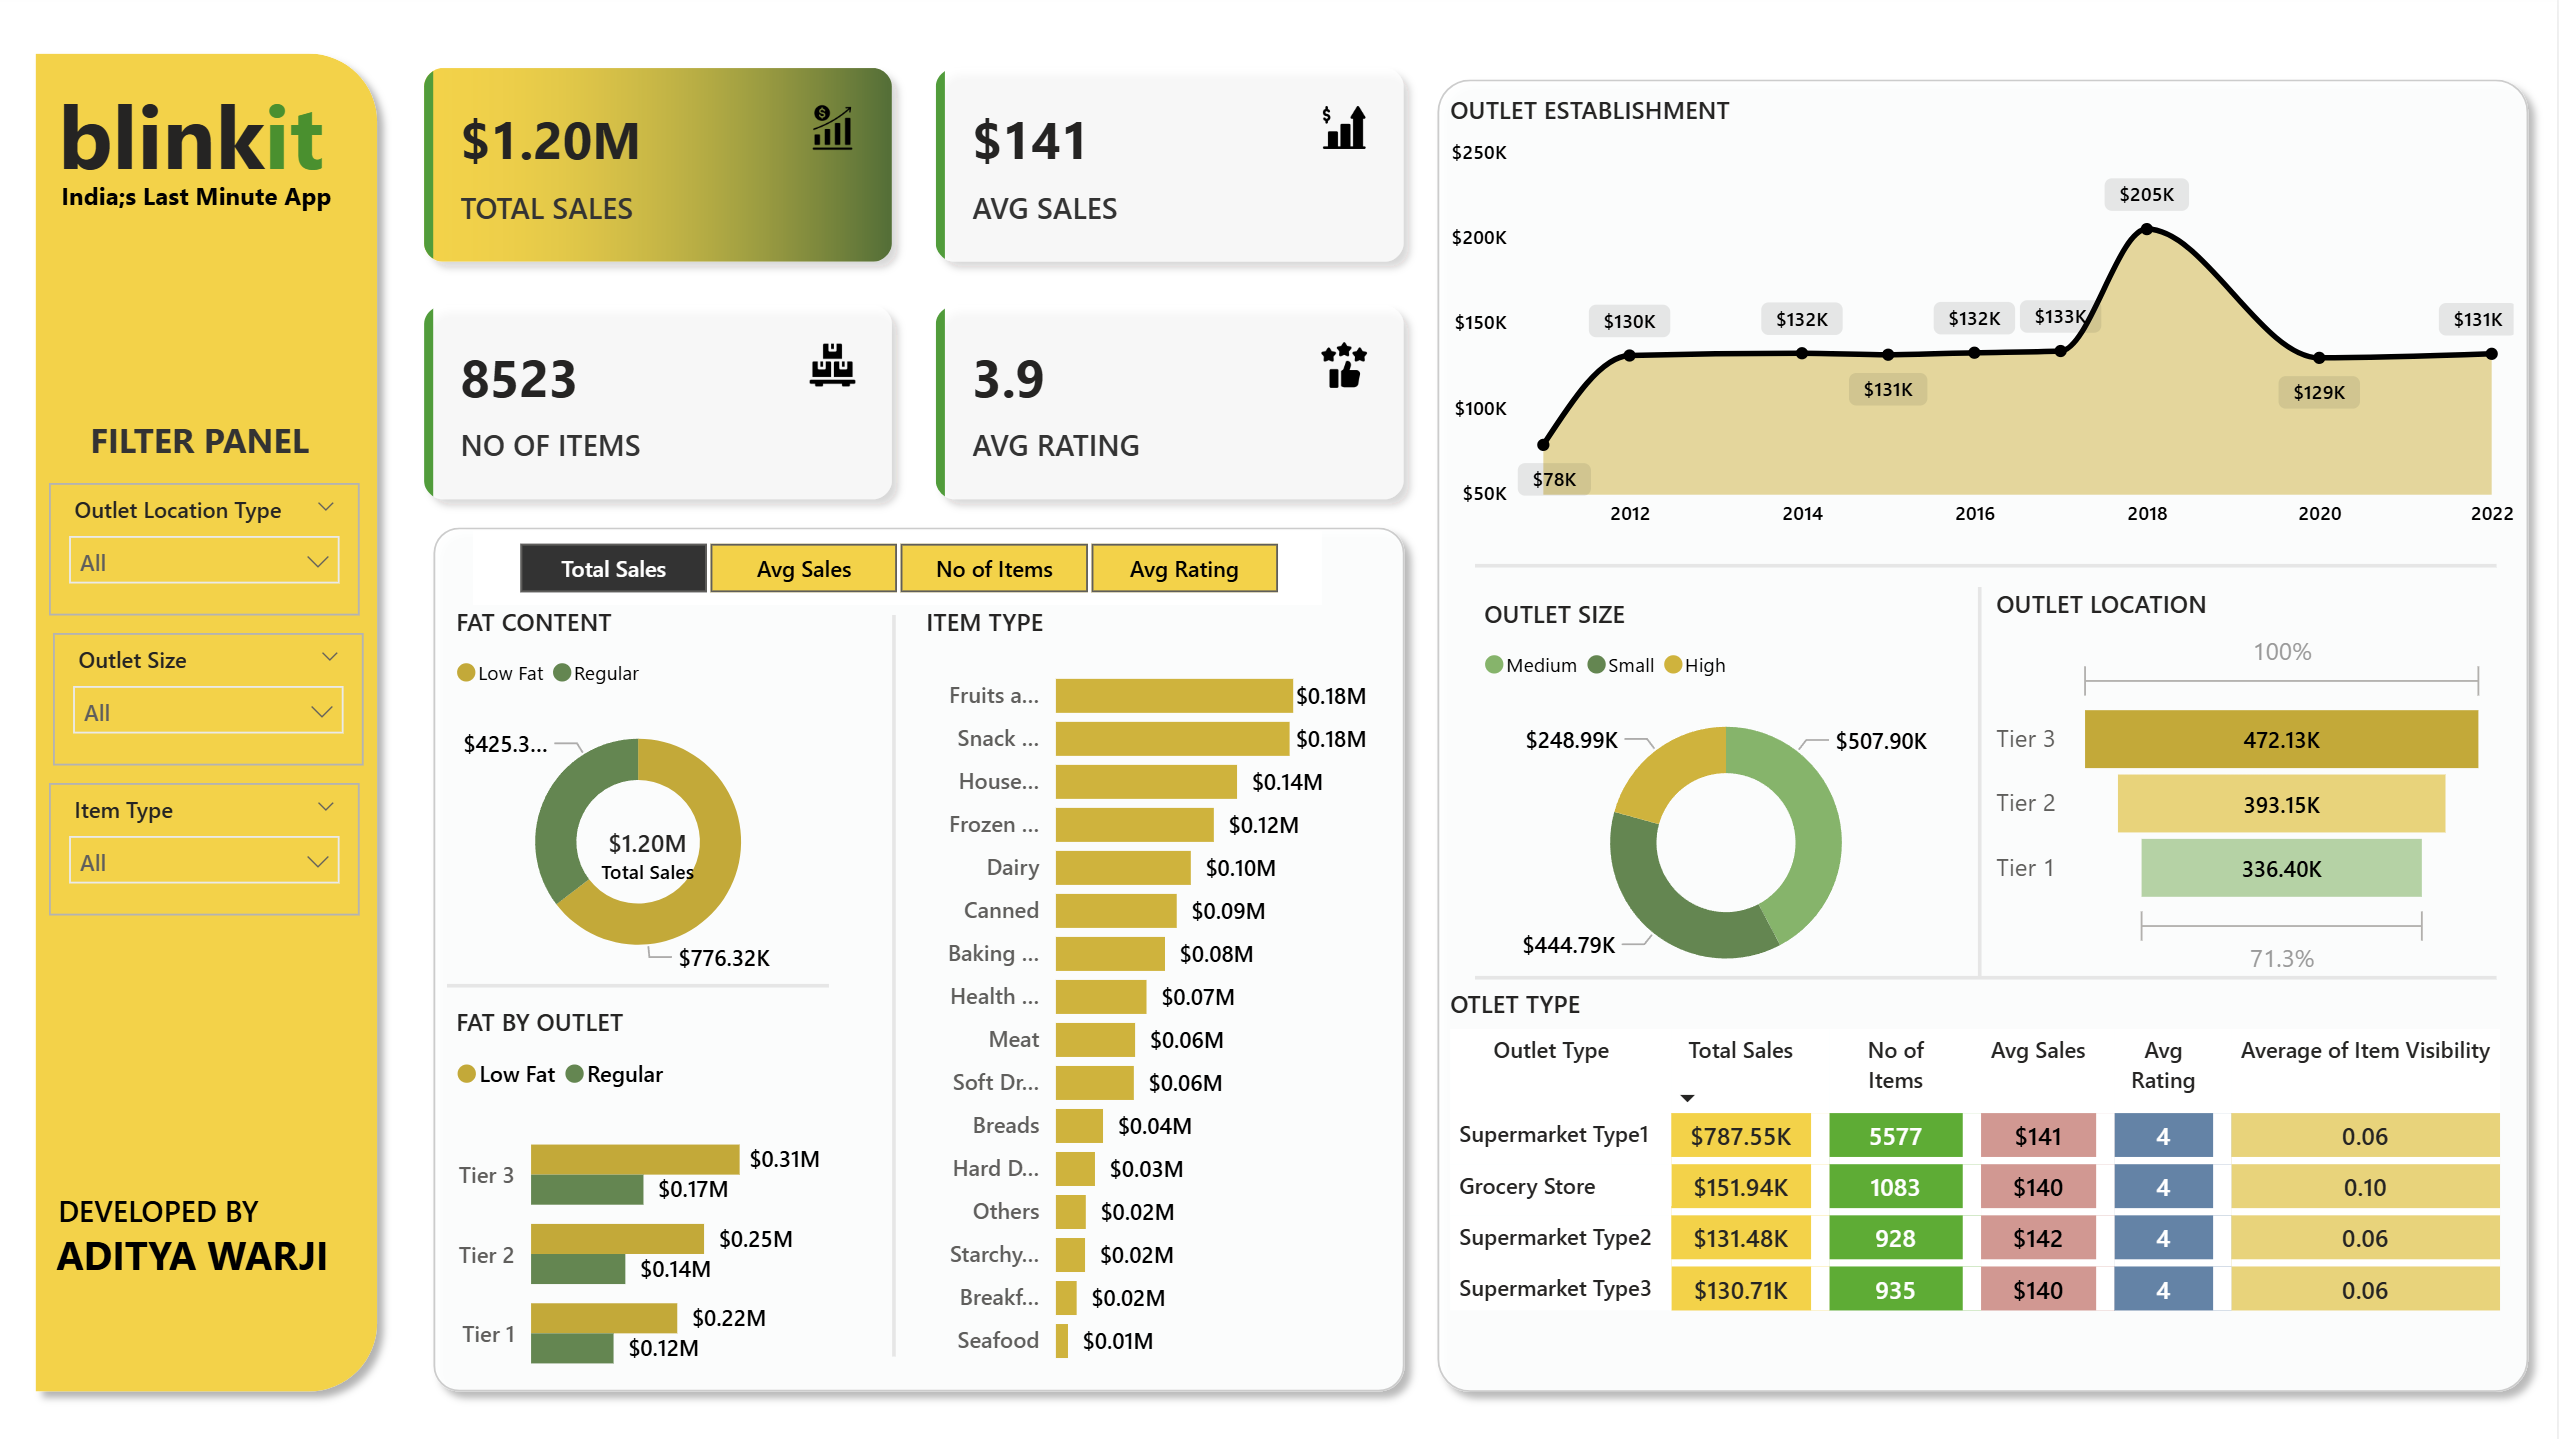

The page's visual inventory and layout, read from the dashboard file:
{"tool":"powerbi","page":{"name":"Page 1","canvas":[1400,800],"ordinal":0},"visuals":[{"type":"shape","box":[11.2,25.1,205,750.2],"z":0},{"type":"textbox","box":[27.9,40.4,172.9,87.8],"z":1000},{"type":"textbox","box":[0,97.6,216.1,87.8],"z":2000},{"type":"cardVisual","fields":{"Data":["BlinkIT Grocery Data - BlinkIT Grocery Data.Total Sales","BlinkIT Grocery Data - BlinkIT Grocery Data.Avg Sales","BlinkIT Grocery Data - BlinkIT Grocery Data.No of Items","BlinkIT Grocery Data - BlinkIT Grocery Data.Avg Rating"]},"box":[216.1,25.1,570.3,270.5],"z":3000},{"type":"shape","box":[228.7,284.5,549.4,490.8],"z":4000},{"type":"donutChart","title":"FAT CONTENT","fields":{"Y":["BlinkIT Grocery Data - BlinkIT Grocery Data.Avg Rating"],"Category":["BlinkIT Grocery Data - BlinkIT Grocery Data.Item Fat Content"]},"box":[245.4,336.1,209.2,214.7],"z":5000},{"type":"slicer","fields":{"Values":["Metrics.Metrics"]},"box":[259.4,295.6,464.3,40.4],"z":6000},{"type":"cardVisual","fields":{"Data":["BlinkIT Grocery Data - BlinkIT Grocery Data.Avg Rating"]},"box":[306.8,436.5,97.6,72.5],"z":7000},{"type":"clusteredBarChart","title":"FAT BY OUTLET","fields":{"Y":["BlinkIT Grocery Data - BlinkIT Grocery Data.Avg Rating"],"Category":["BlinkIT Grocery Data - BlinkIT Grocery Data.Outlet Location Type"],"Series":["BlinkIT Grocery Data - BlinkIT Grocery Data.Item Fat Content"]},"box":[245.4,555,209.2,220.3],"z":8000},{"type":"shape","box":[245.4,529.9,209.2,29.3],"z":9000},{"type":"shape","box":[476.9,341.6,25.1,405.8],"z":10000},{"type":"barChart","title":"ITEM TYPE","fields":{"Y":["BlinkIT Grocery Data - BlinkIT Grocery Data.Avg Rating"],"Category":["BlinkIT Grocery Data - BlinkIT Grocery Data.Item Type"]},"box":[502,336.1,251,426.7],"z":11000},{"type":"shape","box":[778.1,39,614.9,736.3],"z":12000},{"type":"lineChart","title":"OUTLET ESTABLISHMENT","fields":{"Y":["BlinkIT Grocery Data - BlinkIT Grocery Data.Total Sales"],"Category":["BlinkIT Grocery Data - BlinkIT Grocery Data.Outlet Establishment Year"]},"box":[789.2,55.8,591.9,246.8],"z":13000},{"type":"donutChart","title":"OUTLET SIZE","fields":{"Y":["BlinkIT Grocery Data - BlinkIT Grocery Data.Total Sales"],"Category":["BlinkIT Grocery Data - BlinkIT Grocery Data.Outlet Size"]},"box":[807.4,331.9,274.7,224.5],"z":14000},{"type":"shape","box":[807.4,299.8,559.2,29.3],"z":15000},{"type":"shape","box":[1069.5,326.3,29.3,214.7],"z":16000},{"type":"funnel","title":"OUTLET LOCATION","fields":{"Y":["Sum(BlinkIT Grocery Data - BlinkIT Grocery Data.Sales)"],"Category":["BlinkIT Grocery Data - BlinkIT Grocery Data.Outlet Location Type"]},"box":[1087.6,326.3,278.9,218.9],"z":17000},{"type":"shape","box":[807.4,525.7,559.2,29.3],"z":18000},{"type":"pivotTable","title":"OTLET TYPE","fields":{"Rows":["BlinkIT Grocery Data - BlinkIT Grocery Data.Outlet Type"],"Values":["BlinkIT Grocery Data - BlinkIT Grocery Data.Total Sales","BlinkIT Grocery Data - BlinkIT Grocery Data.No of Items","BlinkIT Grocery Data - BlinkIT Grocery Data.Avg Sales","BlinkIT Grocery Data - BlinkIT Grocery Data.Avg Rating","Avg(BlinkIT Grocery Data - BlinkIT Grocery Data.Item Visibility)"]},"box":[789.2,545.2,591.2,217.5],"z":19000},{"type":"slicer","fields":{"Values":["BlinkIT Grocery Data - BlinkIT Grocery Data.Outlet Location Type"]},"box":[27.9,269.1,170.1,72.5],"z":20000},{"type":"slicer","fields":{"Values":["BlinkIT Grocery Data - BlinkIT Grocery Data.Outlet Size"]},"box":[29.3,351.4,170.1,72.5],"z":21000},{"type":"slicer","fields":{"Values":["BlinkIT Grocery Data - BlinkIT Grocery Data.Item Type"]},"box":[27.9,433.7,170.1,72.5],"z":22000},{"type":"textbox","box":[44.6,227.3,159,41.8],"z":23000},{"type":"textbox","box":[27.9,651.2,159,41.8],"z":24000},{"type":"textbox","box":[26.5,672.1,168.7,41.8],"z":25000}]}

Visuals, with their boxes in screenshot pixels (x1, y1, x2, y2), scaled from the page's 1400x800 canvas onto the 2559x1439 screenshot:
shape: x1=20 y1=45 x2=395 y2=1395
textbox: x1=51 y1=73 x2=367 y2=231
textbox: x1=0 y1=176 x2=395 y2=333
cardVisual - BlinkIT Grocery Data - BlinkIT Grocery Data.Total Sales x BlinkIT Grocery Data - BlinkIT Grocery Data.Avg Sales: x1=395 y1=45 x2=1437 y2=532
shape: x1=418 y1=512 x2=1422 y2=1395
"FAT CONTENT" donutChart: x1=449 y1=605 x2=831 y2=991
slicer - Metrics.Metrics: x1=474 y1=532 x2=1323 y2=604
cardVisual - BlinkIT Grocery Data - BlinkIT Grocery Data.Avg Rating: x1=561 y1=785 x2=739 y2=916
"FAT BY OUTLET" clusteredBarChart: x1=449 y1=998 x2=831 y2=1395
shape: x1=449 y1=953 x2=831 y2=1006
shape: x1=872 y1=614 x2=918 y2=1344
"ITEM TYPE" barChart: x1=918 y1=605 x2=1376 y2=1372
shape: x1=1422 y1=70 x2=2546 y2=1395
"OUTLET ESTABLISHMENT" lineChart: x1=1443 y1=100 x2=2524 y2=544
"OUTLET SIZE" donutChart: x1=1476 y1=597 x2=1978 y2=1001
shape: x1=1476 y1=539 x2=2498 y2=592
shape: x1=1955 y1=587 x2=2008 y2=973
"OUTLET LOCATION" funnel: x1=1988 y1=587 x2=2498 y2=981
shape: x1=1476 y1=946 x2=2498 y2=998
"OTLET TYPE" pivotTable: x1=1443 y1=981 x2=2523 y2=1372
slicer - BlinkIT Grocery Data - BlinkIT Grocery Data.Outlet Location Type: x1=51 y1=484 x2=362 y2=614
slicer - BlinkIT Grocery Data - BlinkIT Grocery Data.Outlet Size: x1=54 y1=632 x2=364 y2=762
slicer - BlinkIT Grocery Data - BlinkIT Grocery Data.Item Type: x1=51 y1=780 x2=362 y2=911
textbox: x1=82 y1=409 x2=372 y2=484
textbox: x1=51 y1=1171 x2=342 y2=1247
textbox: x1=48 y1=1209 x2=357 y2=1284
